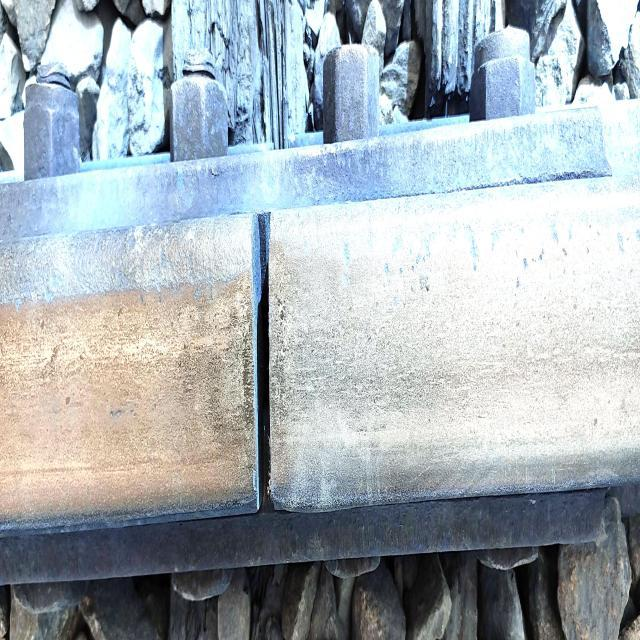Good Joint: (10, 66, 628, 582)
